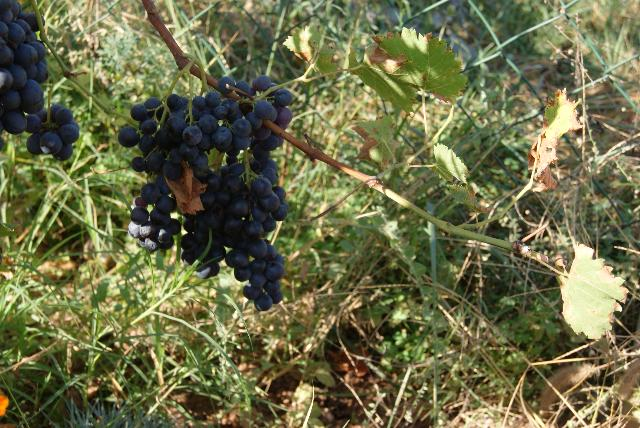grapes: (119, 91, 262, 251), (204, 164, 288, 310), (184, 169, 242, 274)
